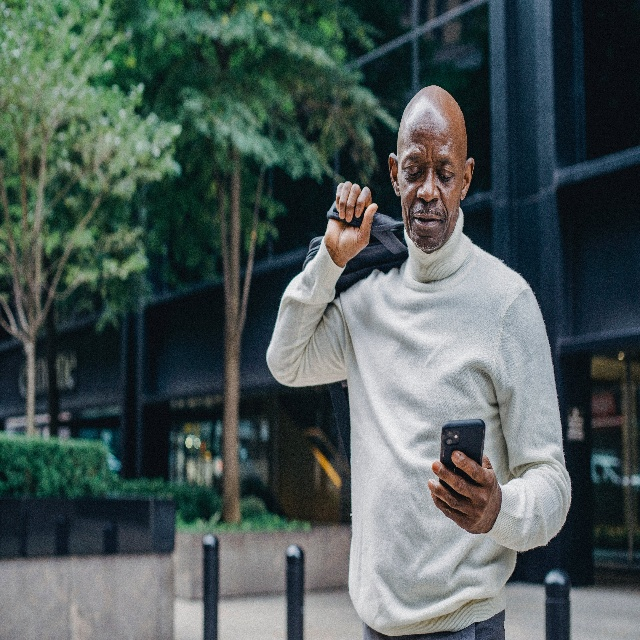Sin_guantes: (428, 442, 502, 537), (325, 180, 378, 264)
